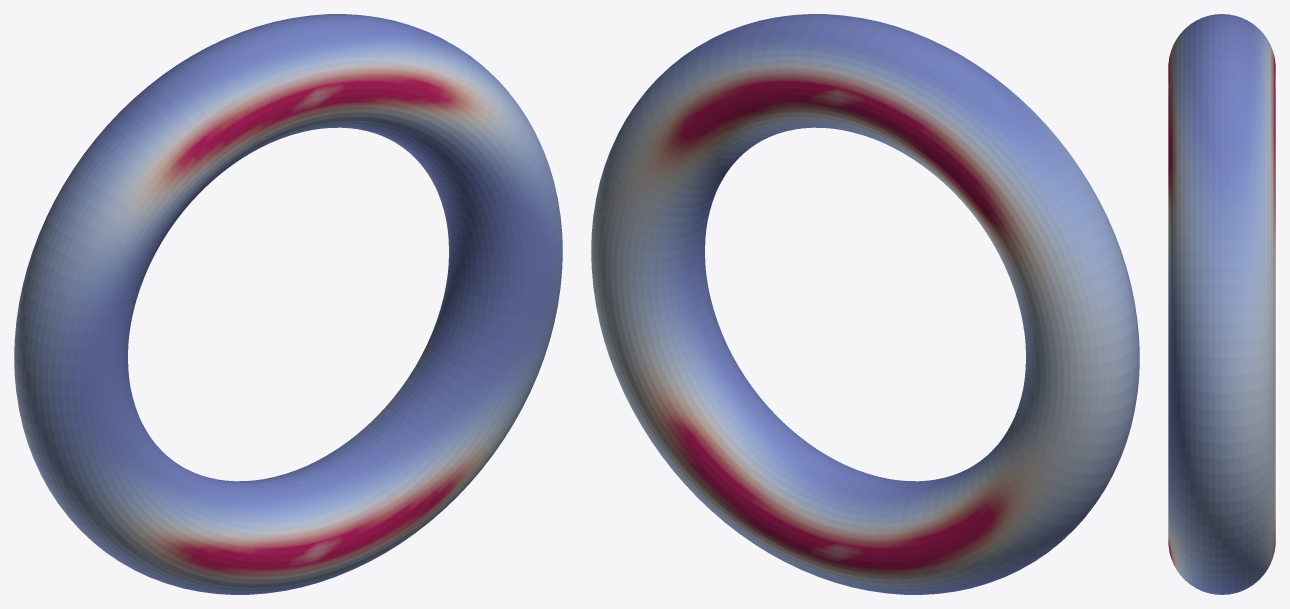
The picture shows the model from 3 angles, left to right: view 1: azimuth 30°, elevation 25°; view 2: azimuth 150°, elevation 25°; view 3: azimuth 270°, elevation 25°; orthographic projection. The views are drawn at different scales.
Parts seen in each view (by area): view 1: world; view 2: world; view 3: world.
Part boxes in pixels (<box>): world: <box>14,14,562,594</box>; world: <box>591,14,1139,594</box>; world: <box>1168,14,1275,594</box>.
Size of the model in its own units: 20.44 by 20.44 by 3.77.
